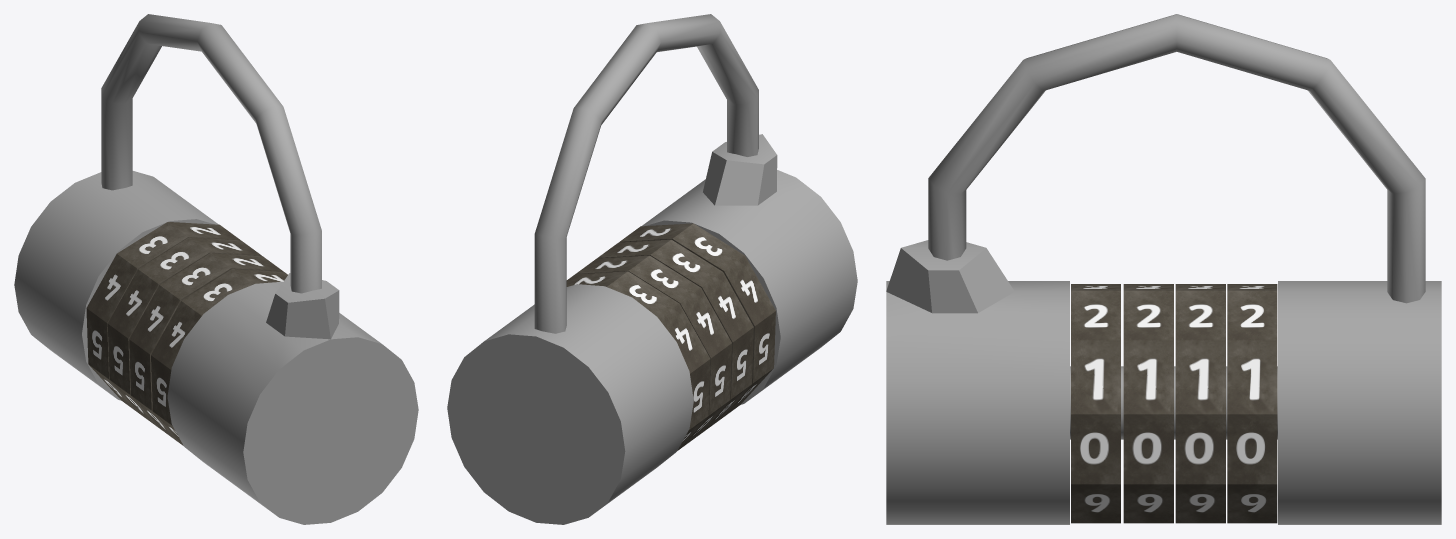
The model's file is SampleLock.fbx.
3 views of the same model, side by side, from view 1: azimuth 30°, elevation 25°; view 2: azimuth 150°, elevation 25°; view 3: azimuth 270°, elevation 25° (orthographic). The views are drawn at different scales.
Parts seen in each view (by area): view 1: Frame, Shackle, Lock2, Lock3, Lock4, Lock1; view 2: Frame, Shackle, Lock1, Lock2, Lock3, Lock4; view 3: Frame, Shackle, Lock2, Lock3, Lock4, Lock1.
Boxes of the visible parts, bbox=[...] form: Frame: bbox=[14, 171, 418, 524]; Shackle: bbox=[101, 14, 321, 293]; Lock2: bbox=[129, 253, 283, 445]; Lock3: bbox=[107, 237, 261, 431]; Lock4: bbox=[86, 222, 240, 415]; Lock1: bbox=[151, 269, 287, 443]; Frame: bbox=[447, 134, 857, 524]; Shackle: bbox=[534, 14, 758, 333]; Lock1: bbox=[619, 223, 775, 420]; Lock2: bbox=[597, 239, 753, 436]; Lock3: bbox=[575, 255, 731, 450]; Lock4: bbox=[566, 271, 710, 447]; Frame: bbox=[886, 240, 1441, 524]; Shackle: bbox=[928, 14, 1425, 303]; Lock2: bbox=[1123, 284, 1173, 523]; Lock3: bbox=[1175, 284, 1225, 523]; Lock4: bbox=[1227, 284, 1277, 523]; Lock1: bbox=[1071, 284, 1120, 523].
Bounding box in the file's own units: 2 × 4.49 × 4.52.
